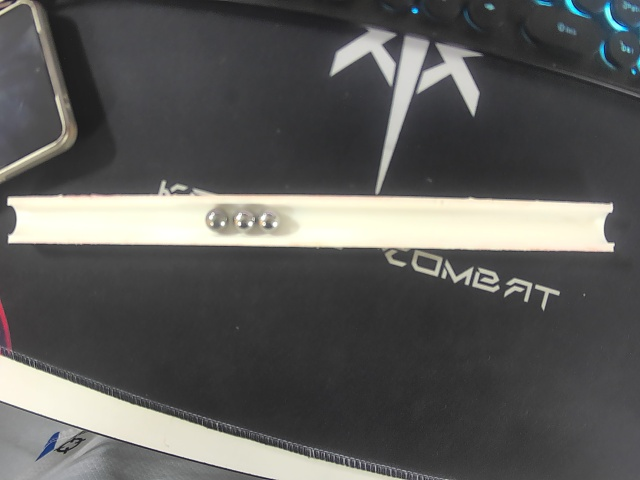steelball: (258, 208, 282, 234), (205, 208, 229, 233), (233, 208, 257, 232)
